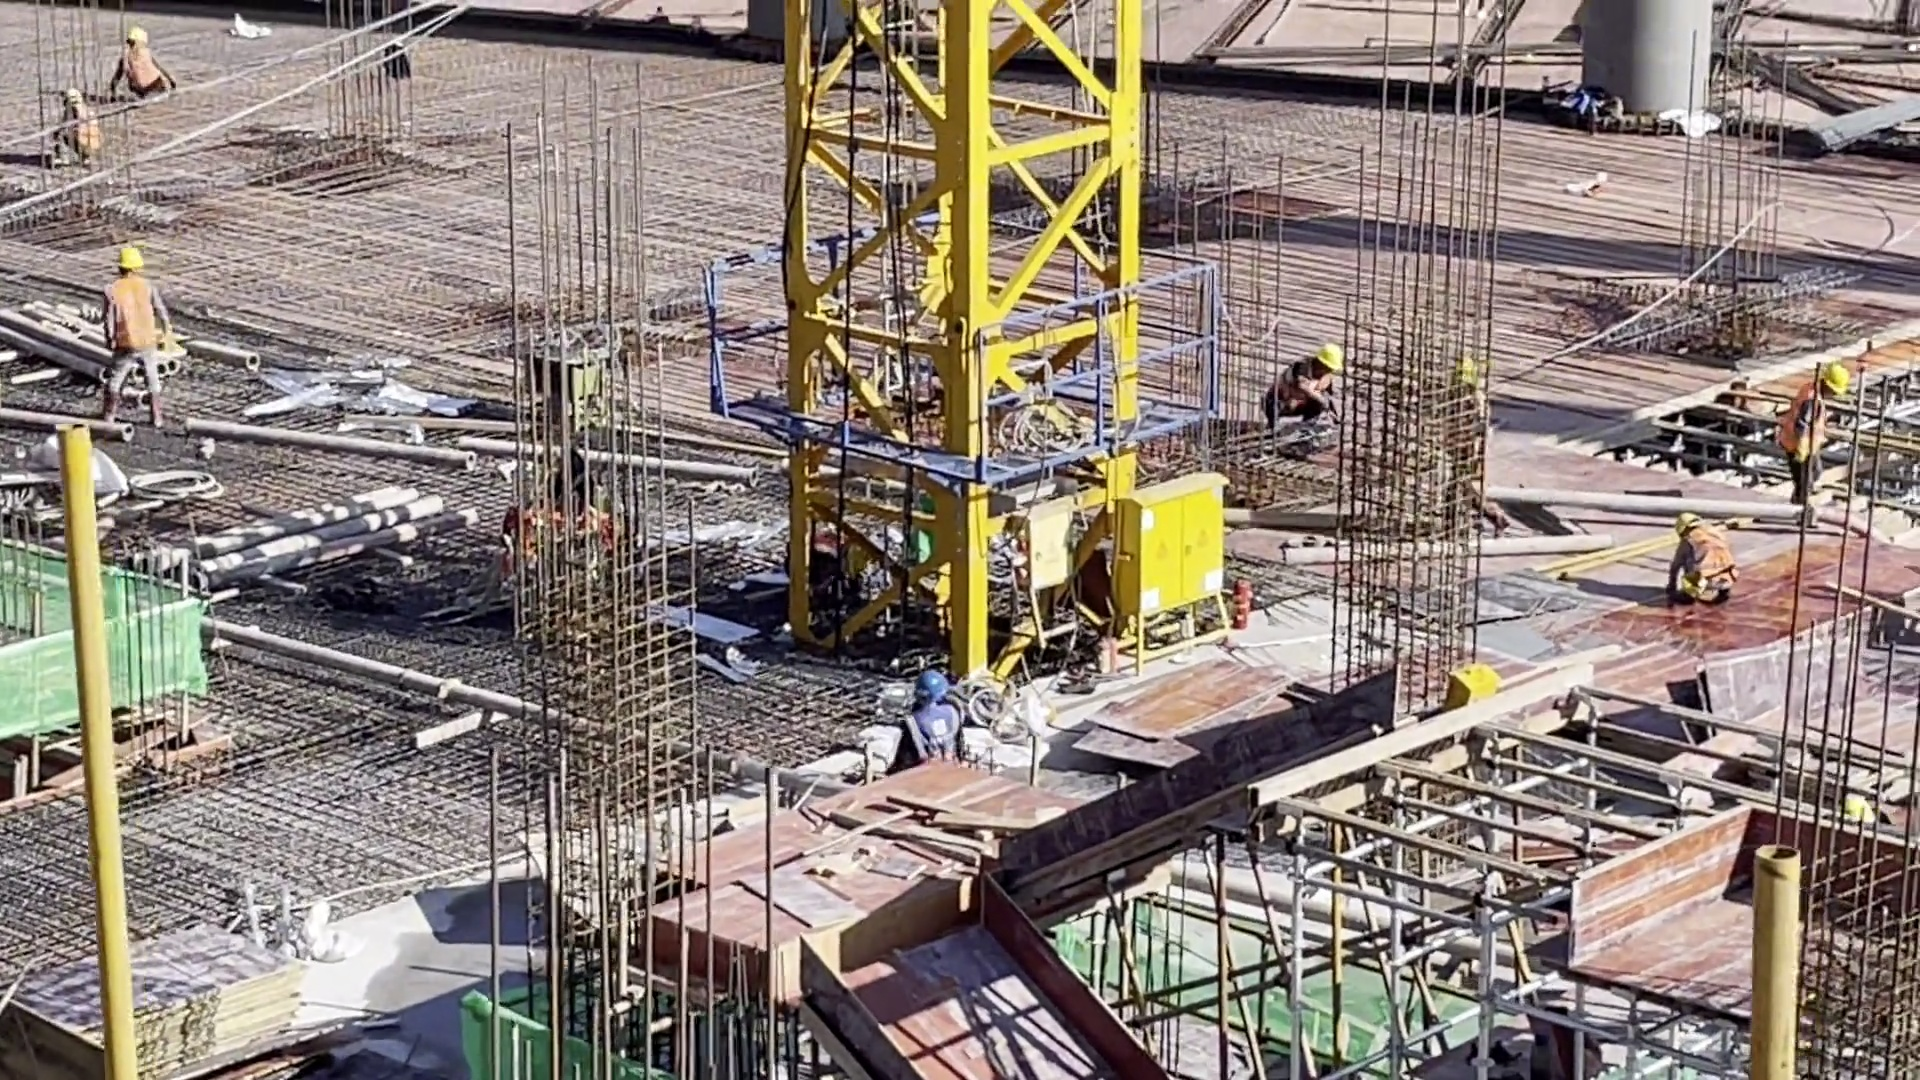board: (5, 875, 319, 1080)
ebox: (1104, 469, 1236, 665), (1020, 498, 1080, 647), (1443, 655, 1506, 713)
helmet: (114, 243, 147, 279), (918, 671, 951, 708), (1316, 344, 1347, 375), (1821, 364, 1852, 388), (124, 24, 151, 43)
person: (100, 244, 168, 432), (1771, 353, 1845, 504), (1259, 337, 1347, 436), (899, 663, 978, 768), (1668, 512, 1748, 600), (110, 25, 175, 101), (50, 90, 104, 169)
rebar: (1793, 93, 1920, 172)
vest: (103, 276, 160, 368), (1670, 529, 1735, 589), (1779, 391, 1829, 462), (902, 709, 958, 767), (1272, 363, 1327, 415), (115, 46, 165, 92)
